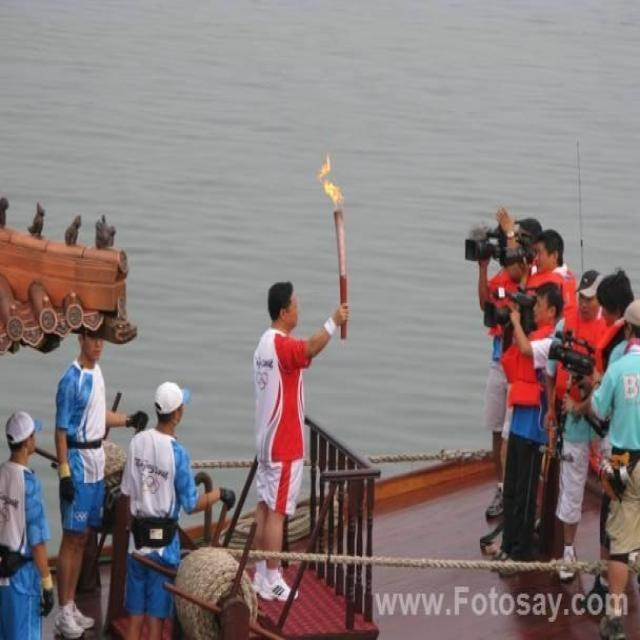Fire: (318, 156, 346, 210)
